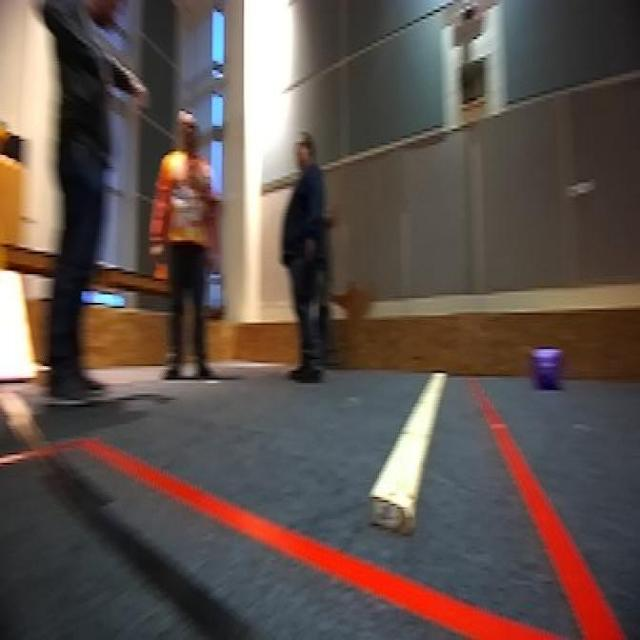frc_cube: (533, 346, 560, 384)
